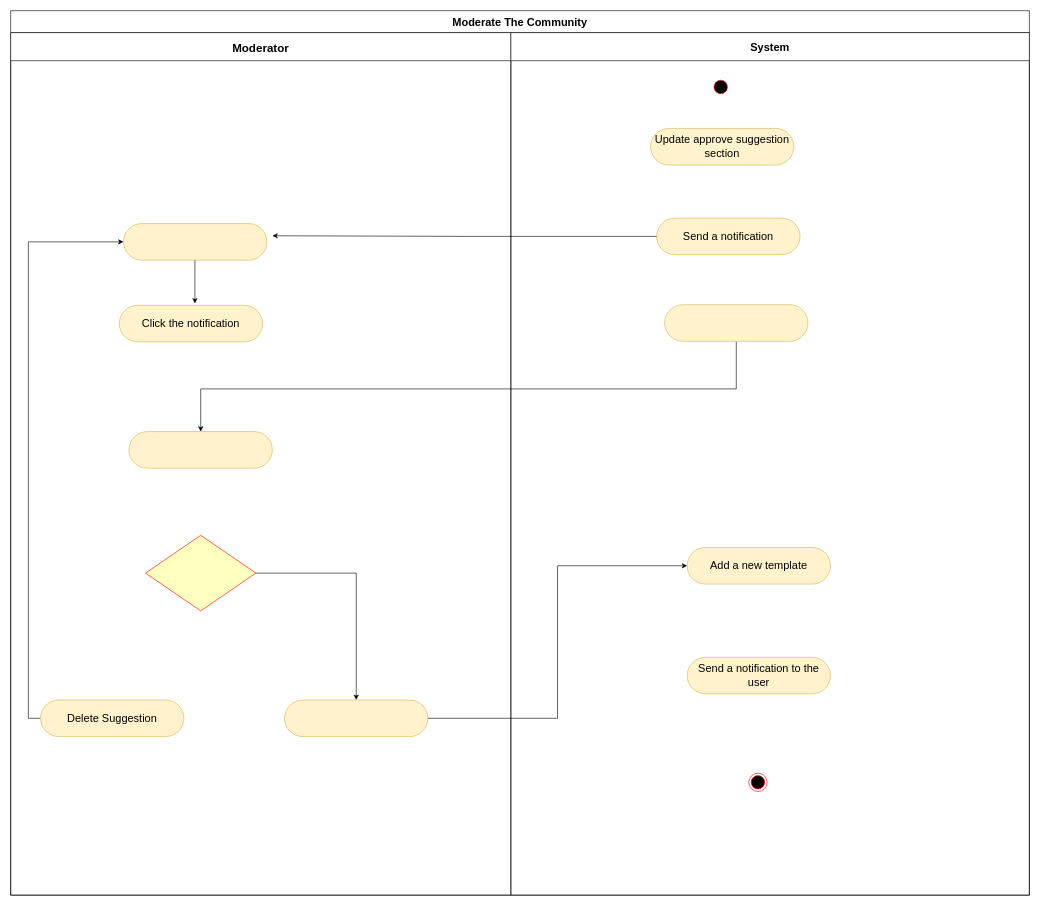
Some shapes in this 1040 by 906 pixel diagram are drawn without their labels. The box of each missing label's shape, as (x1, y1, x2, y2) in pixels:
Approve Suggestion: (284, 699, 428, 737)
Click a approve: (128, 431, 272, 468)
Navigate to the suggestion section: (123, 223, 267, 260)
View the approve suggestion template: (664, 304, 808, 341)
